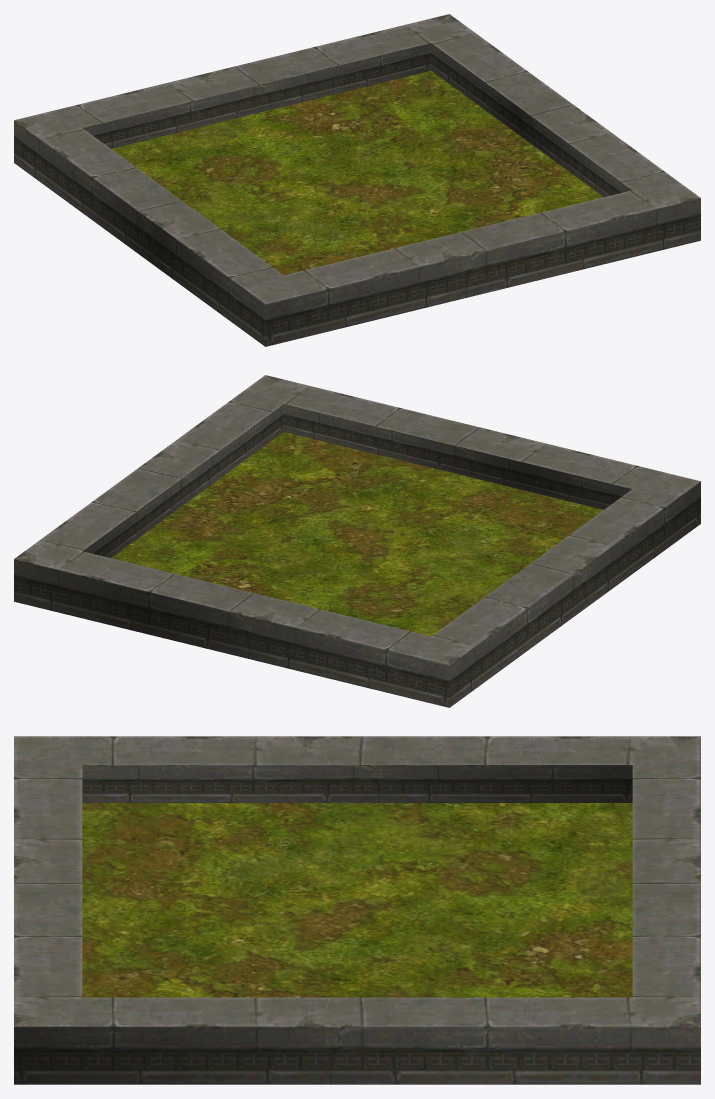
The model's file is environment_Building_qingsangcheng_001_k.FBX.
3 views of the same model, one above another, from view 1: azimuth 30°, elevation 25°; view 2: azimuth 150°, elevation 25°; view 3: azimuth 270°, elevation 25° (orthographic). The views are drawn at different scales.
Visible parts, largest first — view 1: environment_Building_qingsangcheng_001_k2, environment_Building_qingsangcheng_001_k1; view 2: environment_Building_qingsangcheng_001_k2, environment_Building_qingsangcheng_001_k1; view 3: environment_Building_qingsangcheng_001_k2, environment_Building_qingsangcheng_001_k1.
Part boxes in pixels (left/top/right/bottom): environment_Building_qingsangcheng_001_k2: left=14, top=14, right=700, bottom=346; environment_Building_qingsangcheng_001_k1: left=111, top=71, right=603, bottom=275; environment_Building_qingsangcheng_001_k2: left=14, top=375, right=700, bottom=707; environment_Building_qingsangcheng_001_k1: left=111, top=432, right=603, bottom=636; environment_Building_qingsangcheng_001_k2: left=14, top=736, right=700, bottom=1084; environment_Building_qingsangcheng_001_k1: left=82, top=803, right=632, bottom=997.
Size of the model in its own units: 669 by 669 by 62.52.
Materials: 2 (2 with a texture image).
